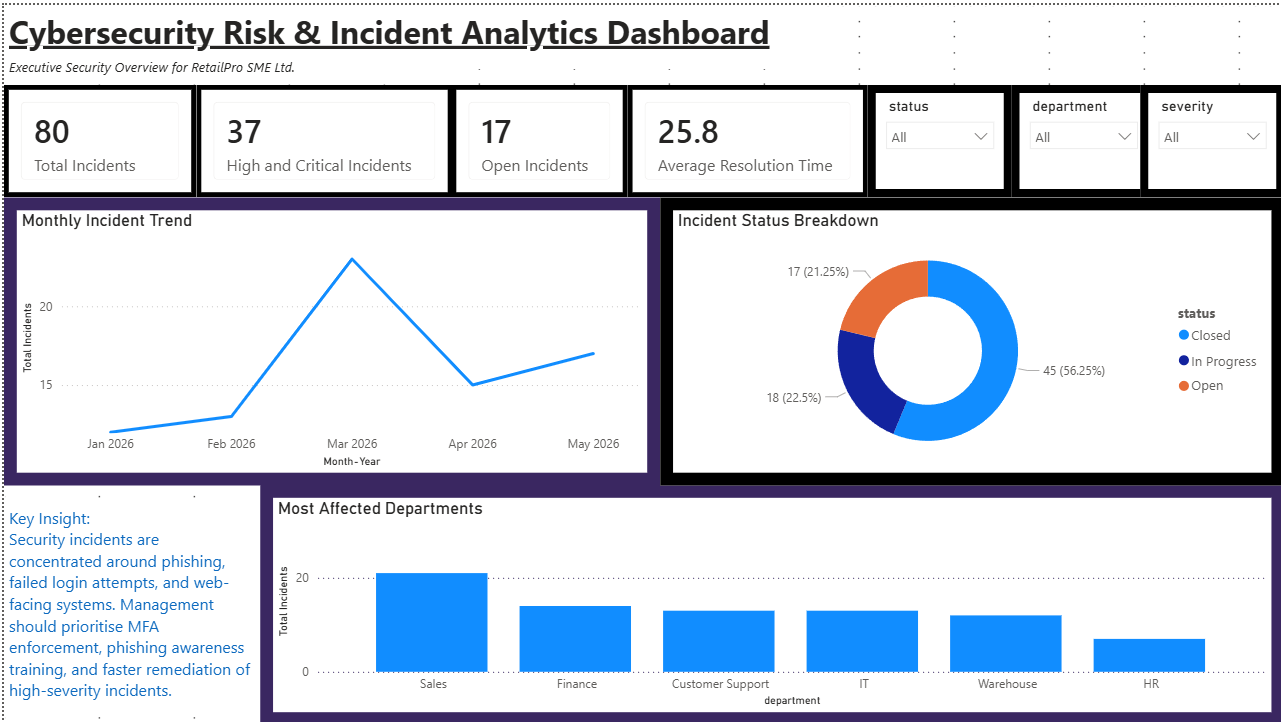

The dashboard page shown, as its layout file describes it:
{"tool":"powerbi","page":{"name":"Executive Overview","canvas":[1280,720],"ordinal":1},"visuals":[{"type":"textbox","box":[0,0,816,64],"z":0},{"type":"textbox","box":[0,48,384,32],"z":1000},{"type":"cardVisual","fields":{"Data":["Incidents.Total Incidents"]},"box":[0,80,192,112],"z":2000},{"type":"cardVisual","fields":{"Data":["Incidents.High and Critical Incidents"]},"box":[192,80,256,112],"z":3000},{"type":"cardVisual","fields":{"Data":["Incidents.Open Incidents"]},"box":[448,80,176,112],"z":4000},{"type":"cardVisual","fields":{"Data":["Incidents.Average Resolution Time"]},"box":[624,80,240,112],"z":5000},{"type":"lineChart","title":"Monthly Incident Trend","fields":{"Y":["Incidents.Total Incidents"],"Category":["Date Table.Month-Year"]},"box":[0,192,656,288],"z":6000},{"type":"clusteredColumnChart","title":"Most Affected Departments","fields":{"Y":["Incidents.Total Incidents"],"Category":["Incidents.department"]},"box":[256,480,1024,240],"z":7000},{"type":"donutChart","title":"Incident Status Breakdown","fields":{"Category":["Incidents.status"],"Y":["Incidents.Total Incidents"]},"box":[656,192,624,288],"z":8000},{"type":"slicer","fields":{"Values":["Incidents.department"]},"box":[1008,80,144,112],"z":9000},{"type":"slicer","fields":{"Values":["Incidents.severity"]},"box":[1136,80,144,112],"z":10000},{"type":"slicer","fields":{"Values":["Incidents.status"]},"box":[864,80,144,112],"z":11000},{"type":"textbox","box":[0,480,256,240],"z":12000}]}

Visuals, with their boxes in screenshot pixels (x1, y1, x2, y2), scaled from the page's 1280x720 canvas onto the 1281x722 screenshot:
textbox: {"left": 0, "top": 0, "right": 817, "bottom": 64}
textbox: {"left": 0, "top": 48, "right": 384, "bottom": 80}
cardVisual - Incidents.Total Incidents: {"left": 0, "top": 80, "right": 192, "bottom": 193}
cardVisual - Incidents.High and Critical Incidents: {"left": 192, "top": 80, "right": 448, "bottom": 193}
cardVisual - Incidents.Open Incidents: {"left": 448, "top": 80, "right": 624, "bottom": 193}
cardVisual - Incidents.Average Resolution Time: {"left": 624, "top": 80, "right": 865, "bottom": 193}
"Monthly Incident Trend" lineChart: {"left": 0, "top": 193, "right": 657, "bottom": 481}
"Most Affected Departments" clusteredColumnChart: {"left": 256, "top": 481, "right": 1280, "bottom": 721}
"Incident Status Breakdown" donutChart: {"left": 657, "top": 193, "right": 1280, "bottom": 481}
slicer - Incidents.department: {"left": 1009, "top": 80, "right": 1153, "bottom": 193}
slicer - Incidents.severity: {"left": 1137, "top": 80, "right": 1280, "bottom": 193}
slicer - Incidents.status: {"left": 865, "top": 80, "right": 1009, "bottom": 193}
textbox: {"left": 0, "top": 481, "right": 256, "bottom": 721}
